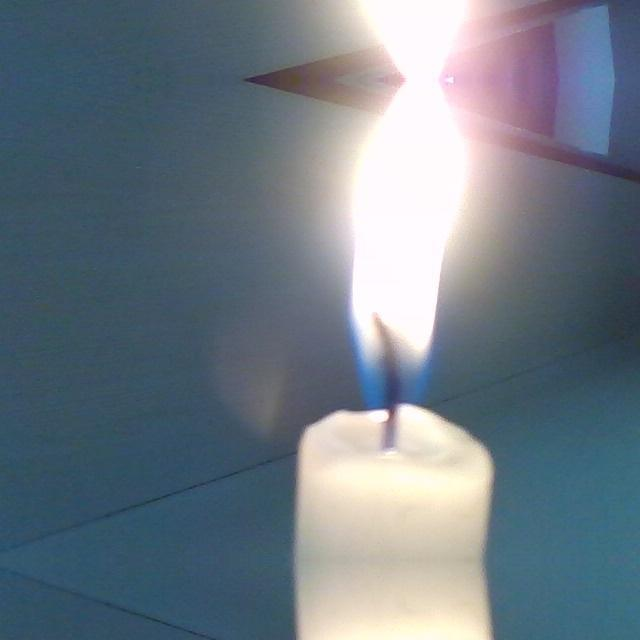smoke: (346, 82, 472, 412), (346, 0, 472, 78)
